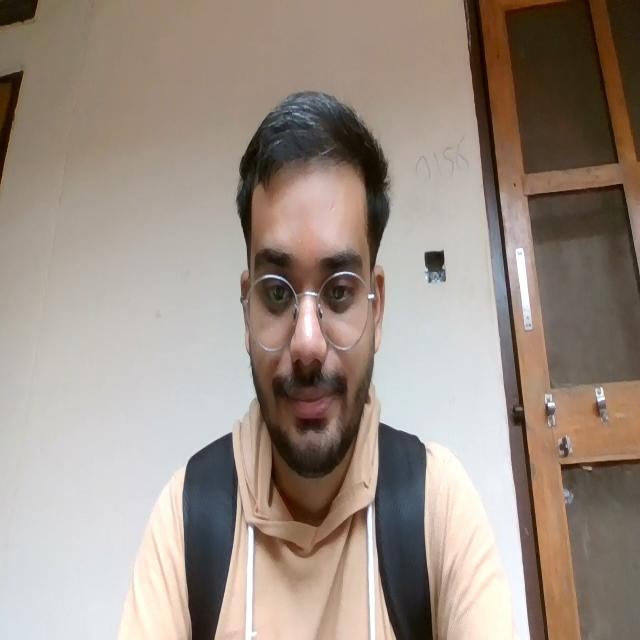awake: (243, 246, 371, 444)
